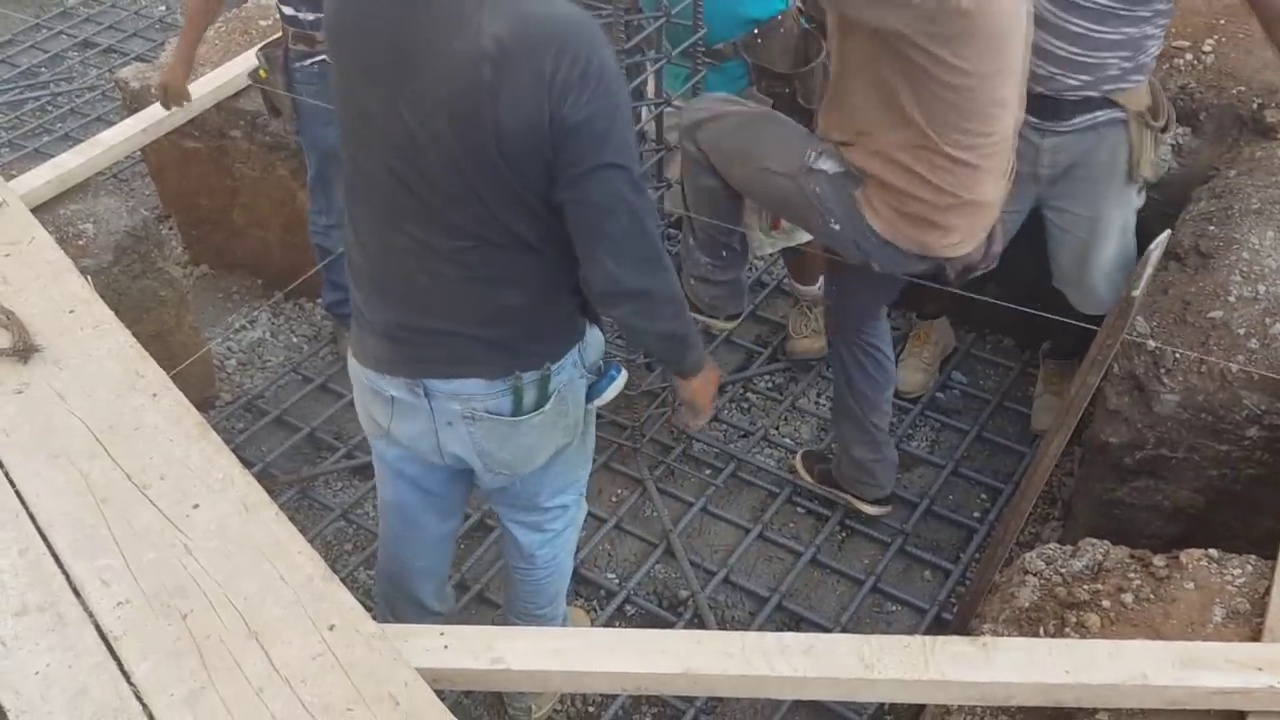person: (319, 0, 726, 629), (679, 5, 1038, 520), (997, 4, 1186, 327), (153, 0, 348, 309)
